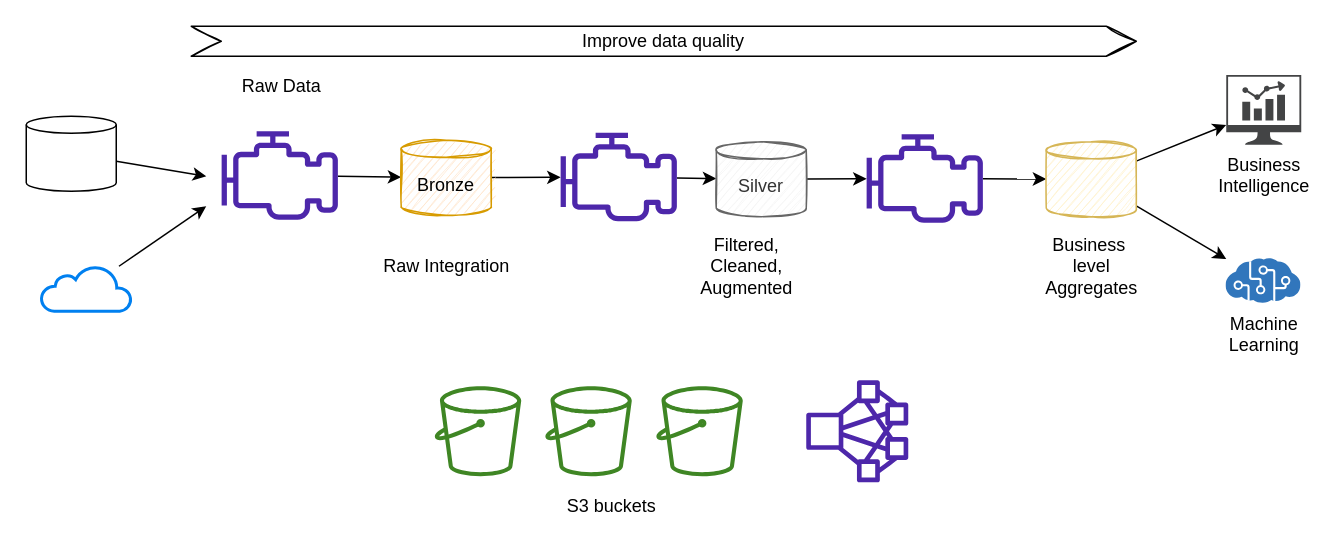
This 1335x548 diagram has some shape labels left out. Each missing label, with the centre of its shape:
Batch: (70,153)
Gold: (1090,178)
HDFS: (857,431)
